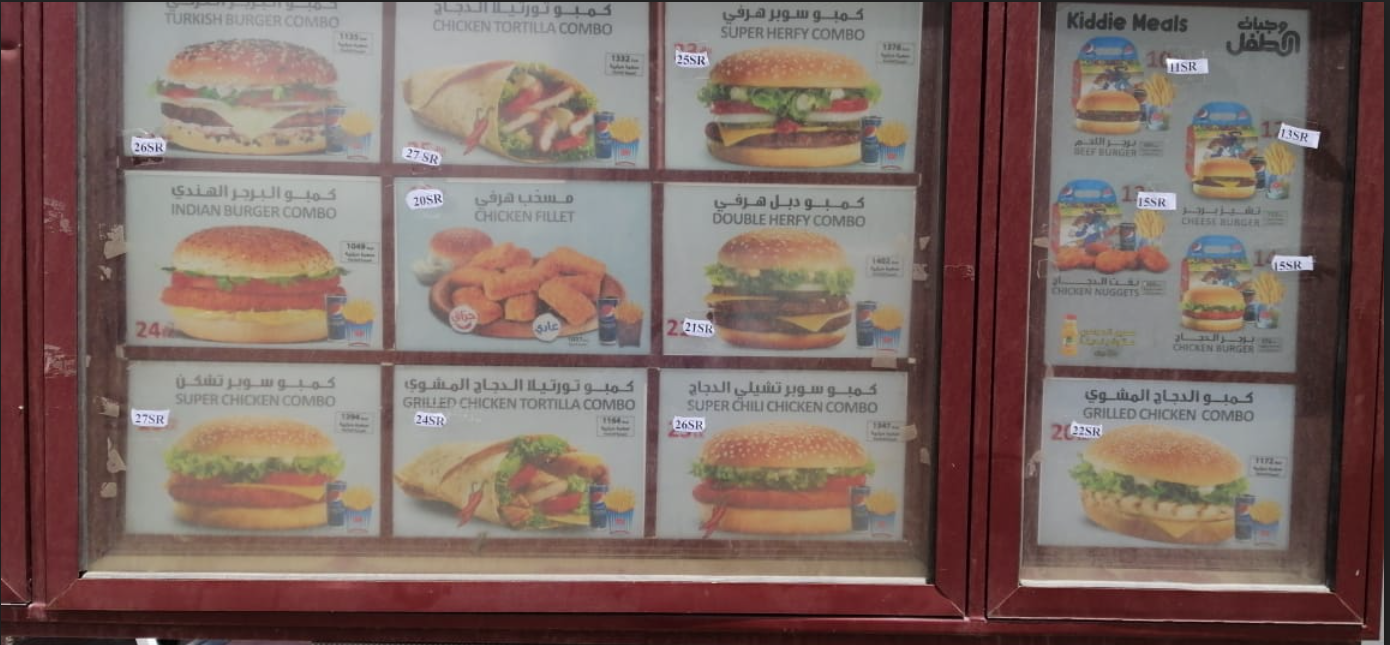Aluminum Shelves: (1, 1, 1390, 640)
